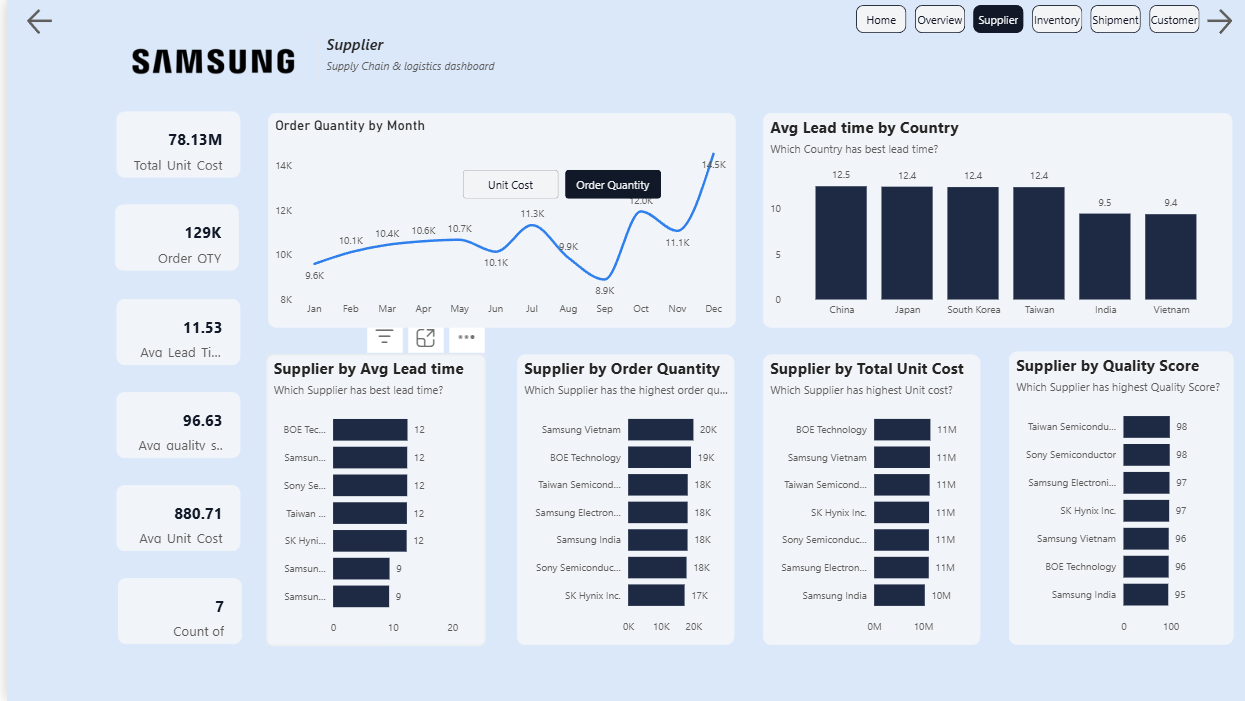

This screenshot's page, from the dashboard's own definition file:
{"tool":"powerbi","page":{"name":"Supplier","canvas":[1500,850],"ordinal":2},"visuals":[{"type":"shape","title":"Supplier","box":[387.1,41.4,275.7,135.7],"z":0},{"type":"shape","box":[315.7,47.1,120,50],"z":1000},{"type":"image","box":[131.4,12.9,228.6,124.3],"z":2000},{"type":"cardVisual","fields":{"Data":["MeasuresTable.Order_QTY"]},"box":[131.3,249.7,150,80],"z":3000},{"type":"cardVisual","fields":{"Data":["fact_procurement.Avg_quality_score"]},"box":[133.3,475.9,150,80],"z":4000},{"type":"cardVisual","fields":{"Data":["MeasuresTable.Avg_Lead_Time"]},"box":[133.3,362.8,150,80],"z":5000},{"type":"cardVisual","fields":{"Data":["CountNonNull(dim_supplier.supplier_id)"]},"box":[134,702,150,80],"z":6000},{"type":"cardVisual","fields":{"Data":["fact_procurement.Avg_Unit_Cost"]},"box":[133.3,588.9,150,80],"z":7000},{"type":"cardVisual","fields":{"Data":["fact_procurement.Total_Unit_Cost"]},"box":[133.3,136.7,150,80],"z":8000},{"type":"shape","box":[260,353,260,96],"z":9000,"group":"g1"},{"type":"clusteredBarChart","title":"Supplier by Avg Lead time","fields":{"Y":["MeasuresTable.Avg_Lead_Time"],"Category":["dim_supplier.supplier_name"]},"box":[315,430,265,353.3],"z":9000},{"type":"clusteredBarChart","title":"Supplier by Order Quantity","fields":{"Y":["MeasuresTable.Order_QTY"],"Category":["dim_supplier.supplier_name"]},"box":[618.3,430,263.3,351.7],"z":10000},{"type":"clusteredBarChart","title":"Supplier by Total Unit Cost","fields":{"Y":["fact_procurement.Total_Unit_Cost"],"Category":["dim_supplier.supplier_name"]},"box":[916.7,430,263.3,351.7],"z":11000},{"type":"clusteredColumnChart","title":"Avg Lead time by Country","fields":{"Category":["dim_supplier.country"],"Y":["MeasuresTable.Avg_Lead_Time"]},"box":[916.7,138.3,568.3,260],"z":12000},{"type":"clusteredBarChart","title":"Supplier by Quality Score","fields":{"Y":["fact_procurement.Avg_quality_score"],"Category":["dim_supplier.supplier_name"]},"box":[1213.3,426.7,271.7,355],"z":13000},{"type":"group","id":"g1","title":"Group 1","box":[260,138.3,621.7,310],"z":14000},{"type":"actionButton","box":[1448.1,7.3,51.3,40.3],"z":15000},{"type":"lineChart","fields":{"Y":["MeasuresTable.Order_QTY"],"Category":["dim_date.Month_Short"]},"box":[315.6,138.3,566.7,260],"z":15000,"group":"g1"},{"type":"pageNavigator","box":[1028.3,7.3,419.8,34.8],"z":16000},{"type":"advancedSlicerVisual","fields":{"Values":["Cost_Qty_Supplier.Cost_Qty_Supplier"]},"box":[546.3,201.6,250,45],"z":16000,"group":"g1"},{"type":"actionButton","box":[20.2,7.3,64.2,40.3],"z":17000}]}

Visuals, with their boxes in screenshot pixels (x1, y1, x2, y2), scaled from the page's 1500x850 canvas onto the 1245x701 screenshot:
"Supplier" shape: detection(321, 34, 550, 146)
shape: detection(262, 39, 362, 80)
image: detection(109, 11, 299, 113)
cardVisual - MeasuresTable.Order_QTY: detection(109, 206, 233, 272)
cardVisual - fact_procurement.Avg_quality_score: detection(111, 392, 235, 458)
cardVisual - MeasuresTable.Avg_Lead_Time: detection(111, 299, 235, 365)
cardVisual - CountNonNull(dim_supplier.supplier_id): detection(111, 579, 236, 645)
cardVisual - fact_procurement.Avg_Unit_Cost: detection(111, 486, 235, 552)
cardVisual - fact_procurement.Total_Unit_Cost: detection(111, 113, 235, 179)
shape: detection(216, 291, 432, 370)
"Supplier by Avg Lead time" clusteredBarChart: detection(261, 355, 481, 646)
"Supplier by Order Quantity" clusteredBarChart: detection(513, 355, 732, 645)
"Supplier by Total Unit Cost" clusteredBarChart: detection(761, 355, 979, 645)
"Avg Lead time by Country" clusteredColumnChart: detection(761, 114, 1233, 328)
"Supplier by Quality Score" clusteredBarChart: detection(1007, 352, 1233, 645)
"Group 1" group: detection(216, 114, 732, 370)
actionButton: detection(1202, 6, 1244, 39)
lineChart - MeasuresTable.Order_QTY x dim_date.Month_Short: detection(262, 114, 732, 328)
pageNavigator: detection(853, 6, 1202, 35)
advancedSlicerVisual - Cost_Qty_Supplier.Cost_Qty_Supplier: detection(453, 166, 661, 203)
actionButton: detection(17, 6, 70, 39)
